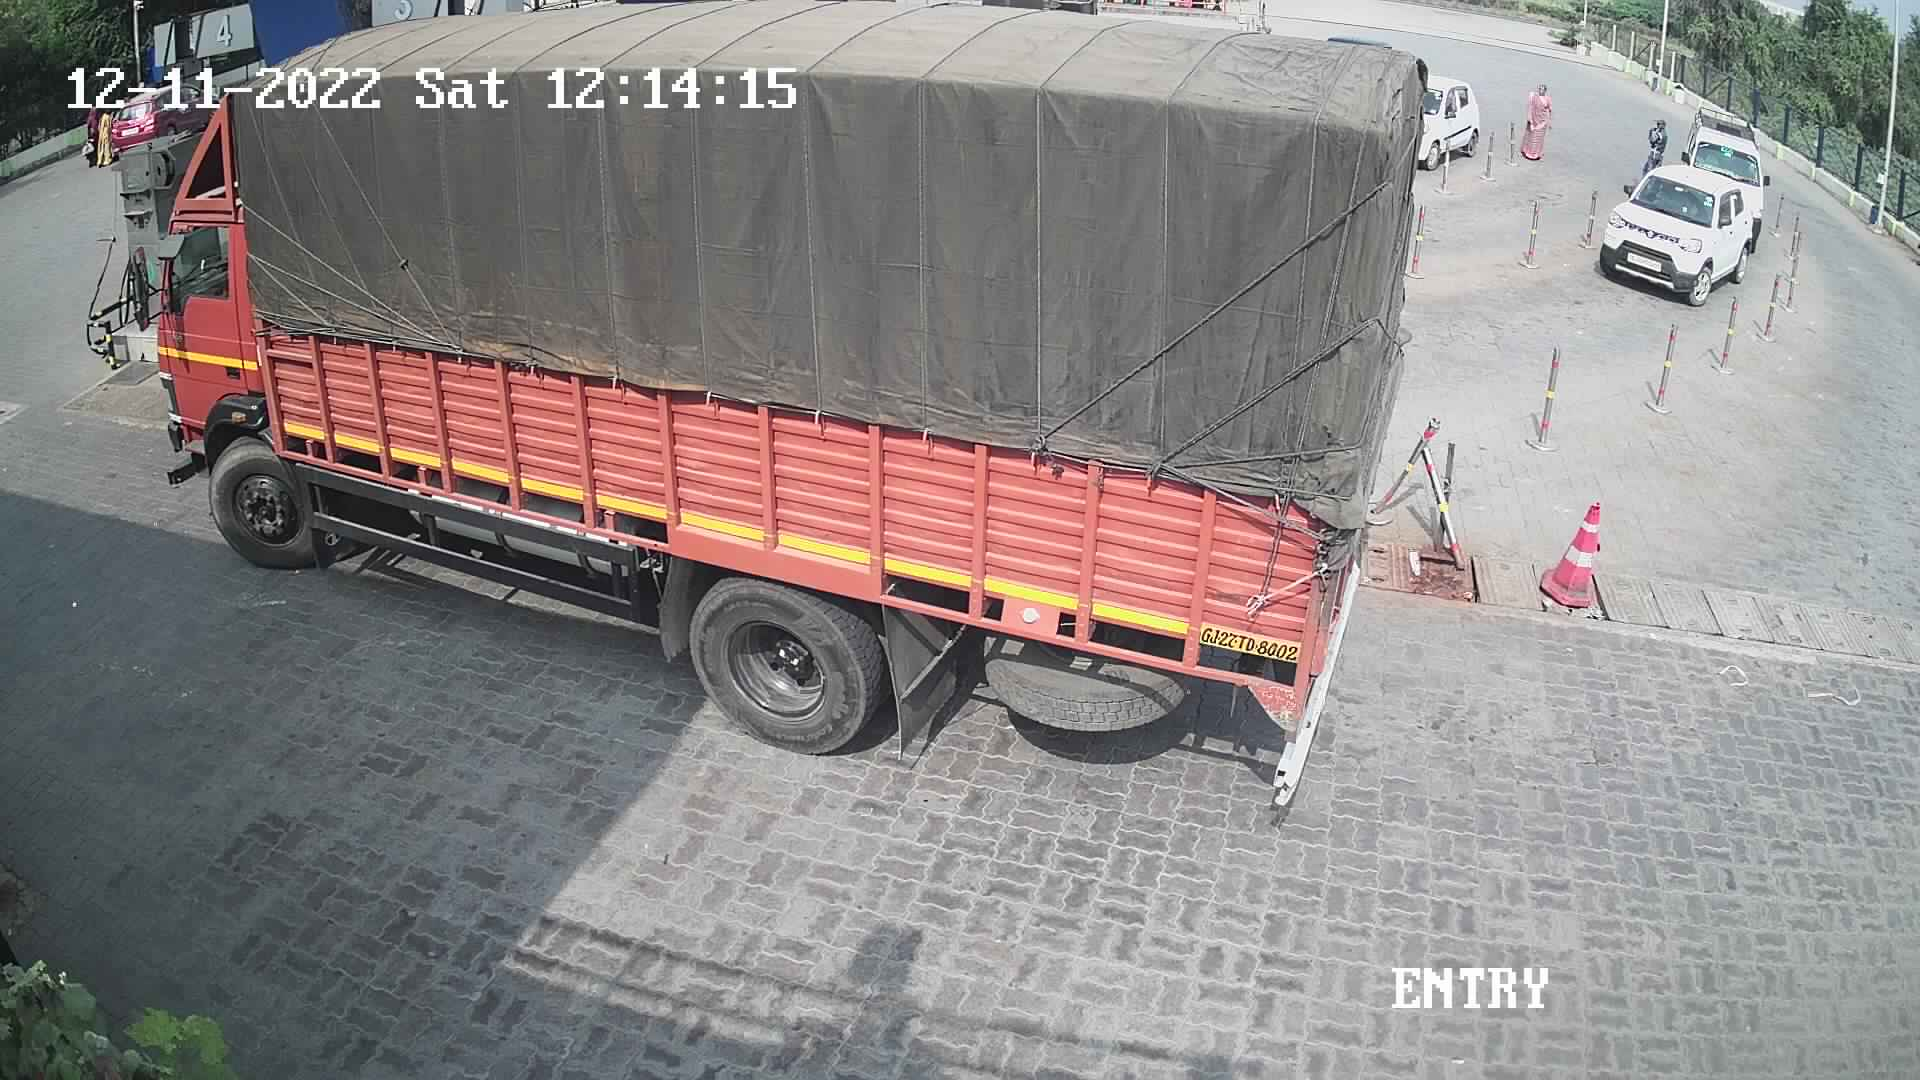Car: (1596, 158, 1759, 314), (1676, 99, 1770, 260), (98, 69, 225, 170), (1414, 62, 1487, 177)
HMV: (119, 0, 1440, 824)
